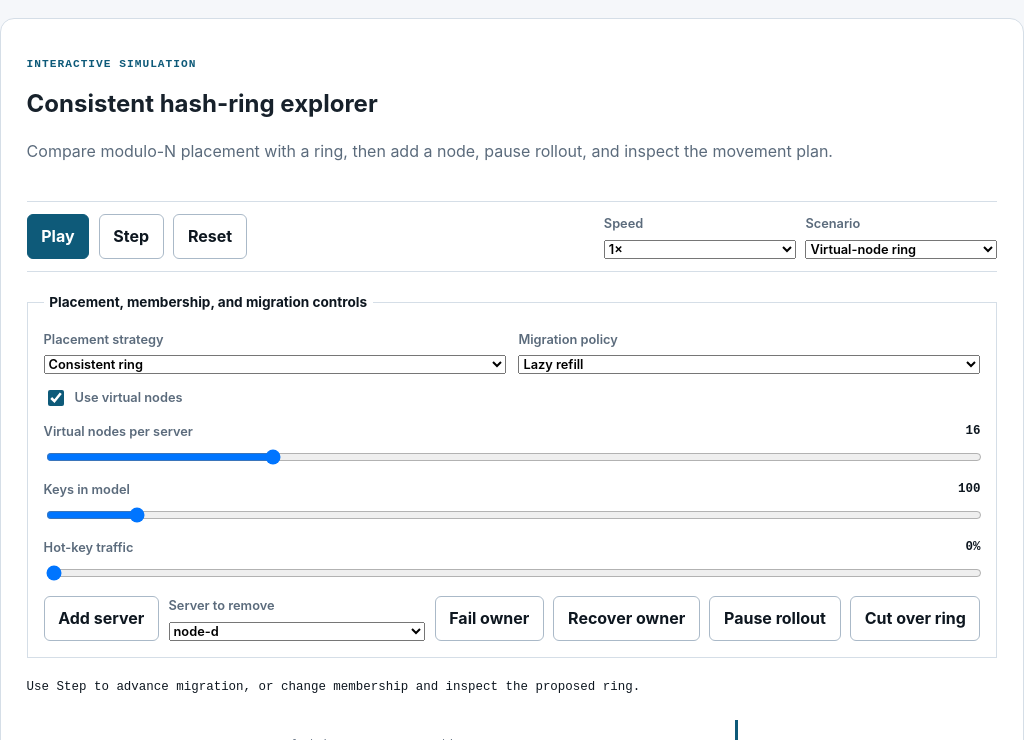
Test: simulation component boundaries › renders consistent hashing as an accessible ring plus a color-independent ownership table
Select "Modulo N" in the dropdown labelled "Placement strategy" at coordinates (275, 365), box [44, 355, 506, 374]
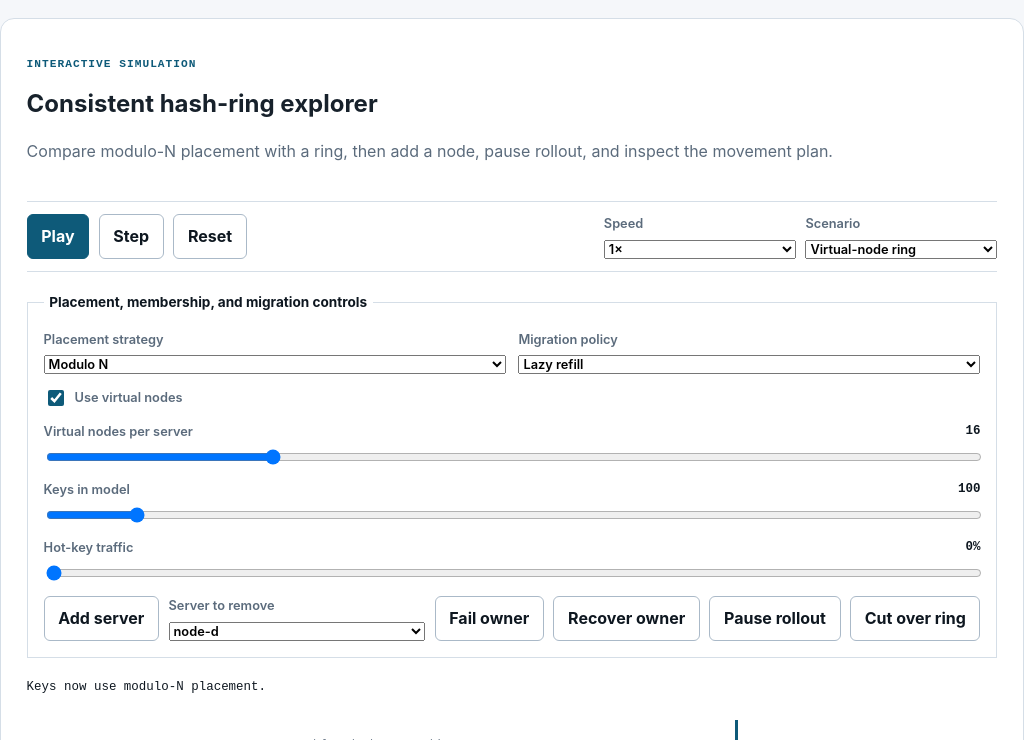
Click the button "Add server" at coordinates (101, 618), box [44, 596, 159, 641]
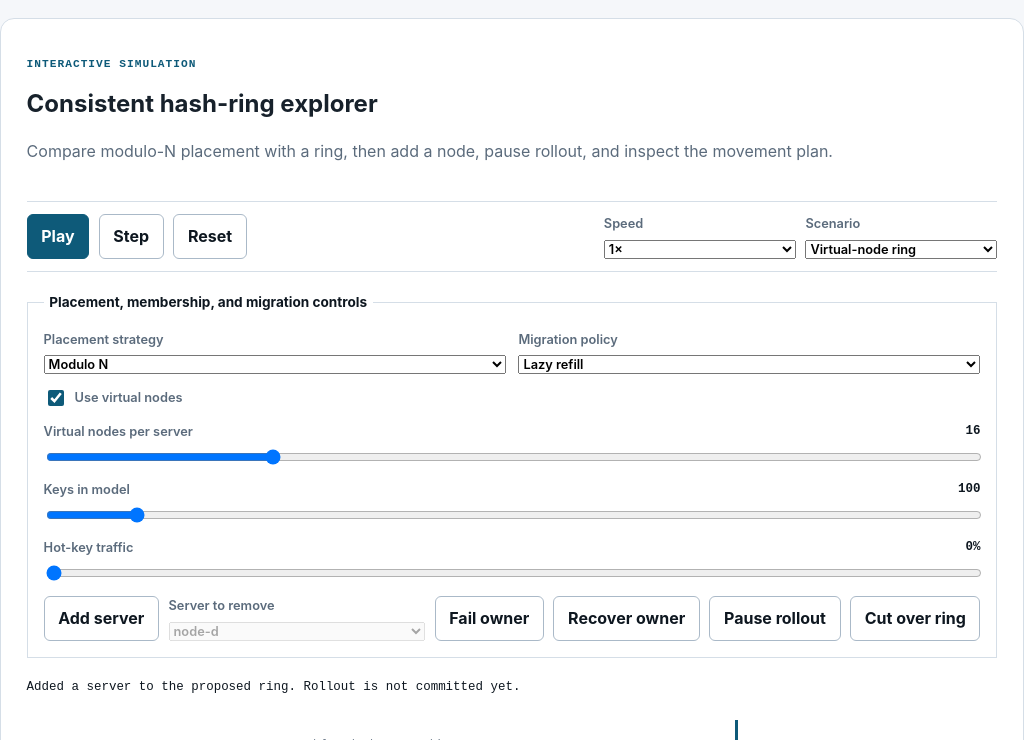
Expected: the button "Pause rollout" is enabled, [709, 596, 840, 641]
Click the button "Fail owner" at coordinates (489, 618), box [435, 596, 544, 641]
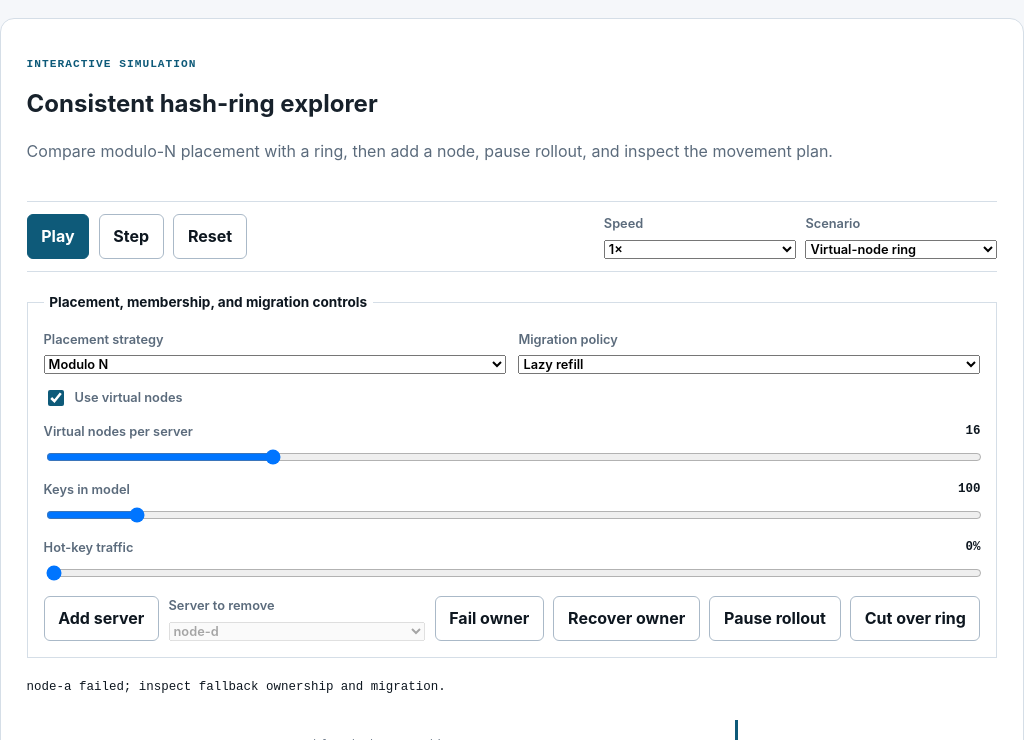
Click the button "Recover owner" at coordinates (627, 618), box [554, 596, 700, 641]
(page scrolled)
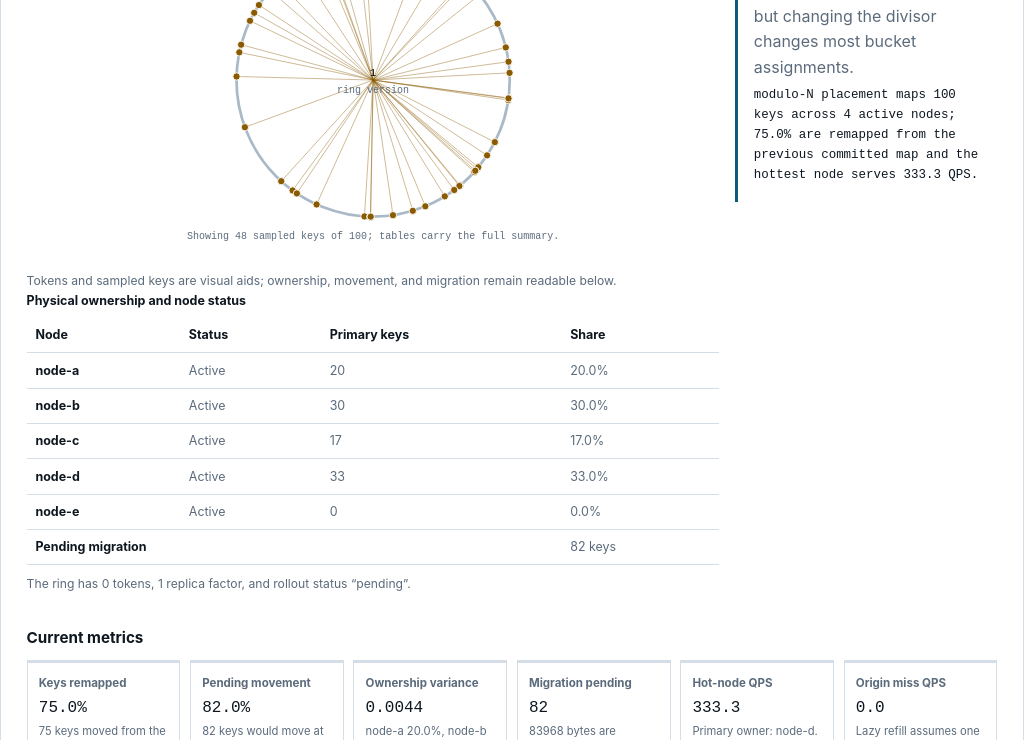
Expected: the 1st text "Active" is shown, [180, 353, 321, 388]
